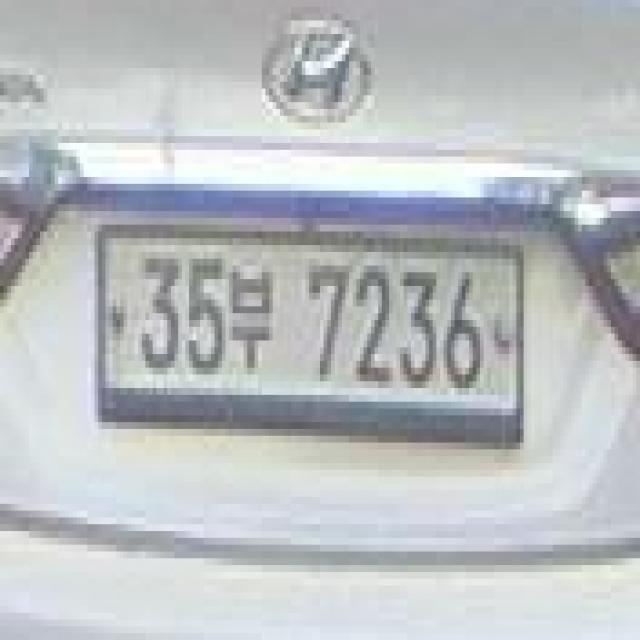2: (352, 259, 392, 388)
3: (396, 265, 440, 395), (142, 252, 182, 374)
5: (186, 252, 229, 374)
6: (440, 272, 480, 388)
7: (302, 266, 349, 381)
bu: (229, 259, 276, 381)
license_plate: (95, 218, 520, 422)
